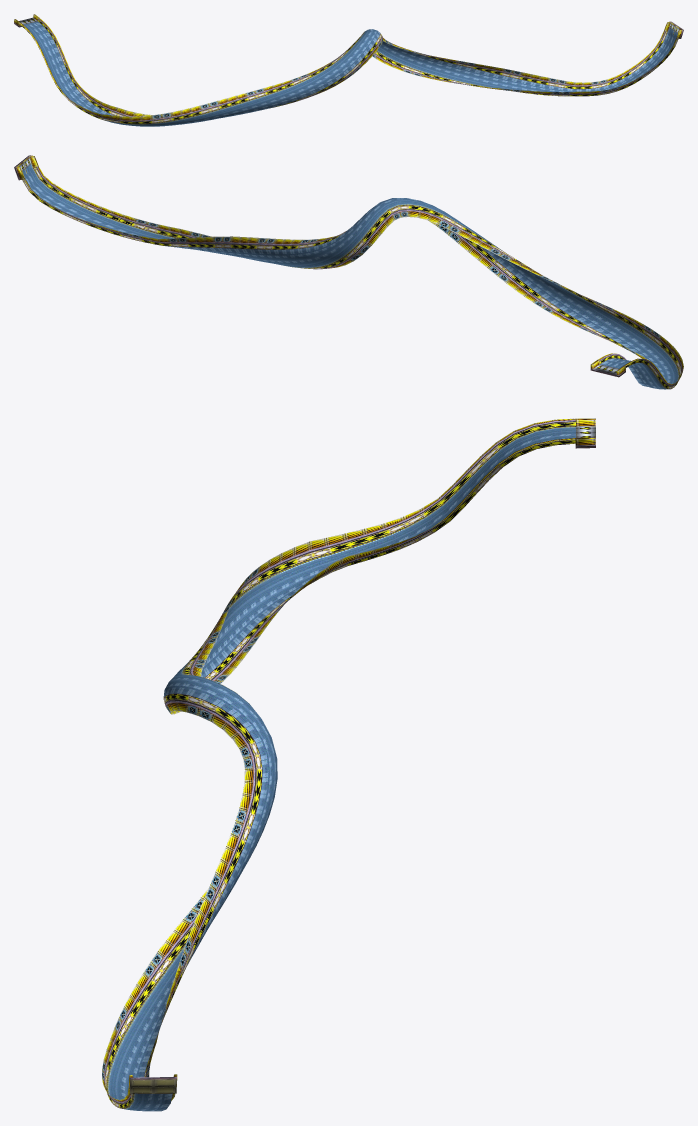
The model's file is Tubo.fbx.
3 renders of one model, top to bottom at view 1: azimuth 30°, elevation 25°; view 2: azimuth 150°, elevation 25°; view 3: azimuth 270°, elevation 25°, orthographic. The views are drawn at different scales.
Parts seen in each view (by area): view 1: part1.001; view 2: part1.001; view 3: part1.001.
Part boxes in pixels (<box>): part1.001: <box>14,14,683,126</box>; part1.001: <box>14,155,683,389</box>; part1.001: <box>102,418,595,1111</box>.
Bounding box in the file's own units: 190621 × 33599 × 73706.
10 materials, 10 textured.
